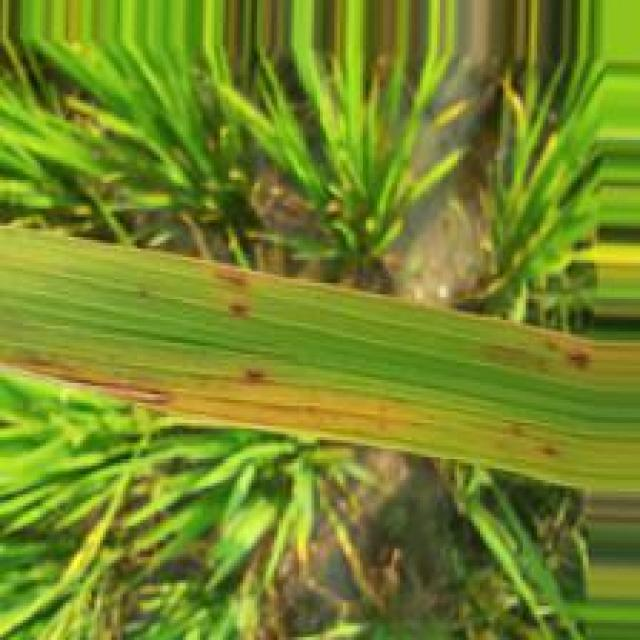Brown_Spot: (7, 346, 179, 412), (556, 344, 597, 379), (203, 264, 251, 293), (233, 362, 271, 393), (222, 299, 253, 326), (499, 421, 530, 440), (538, 447, 559, 461)
